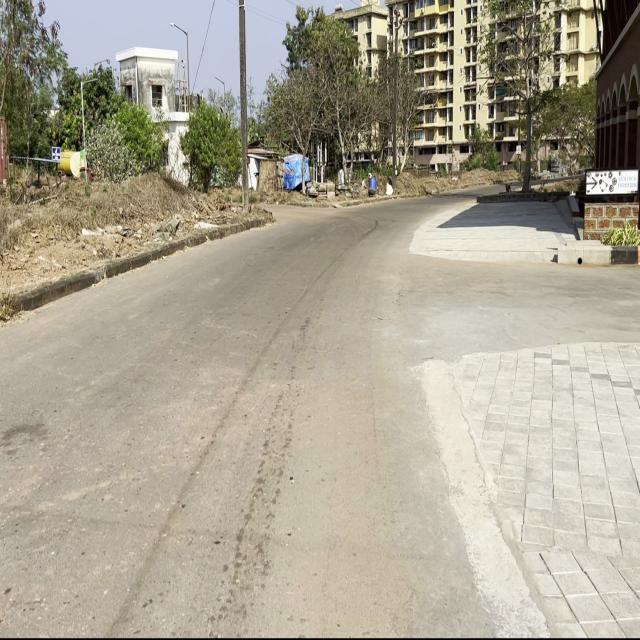Road: (0, 201, 495, 638)
